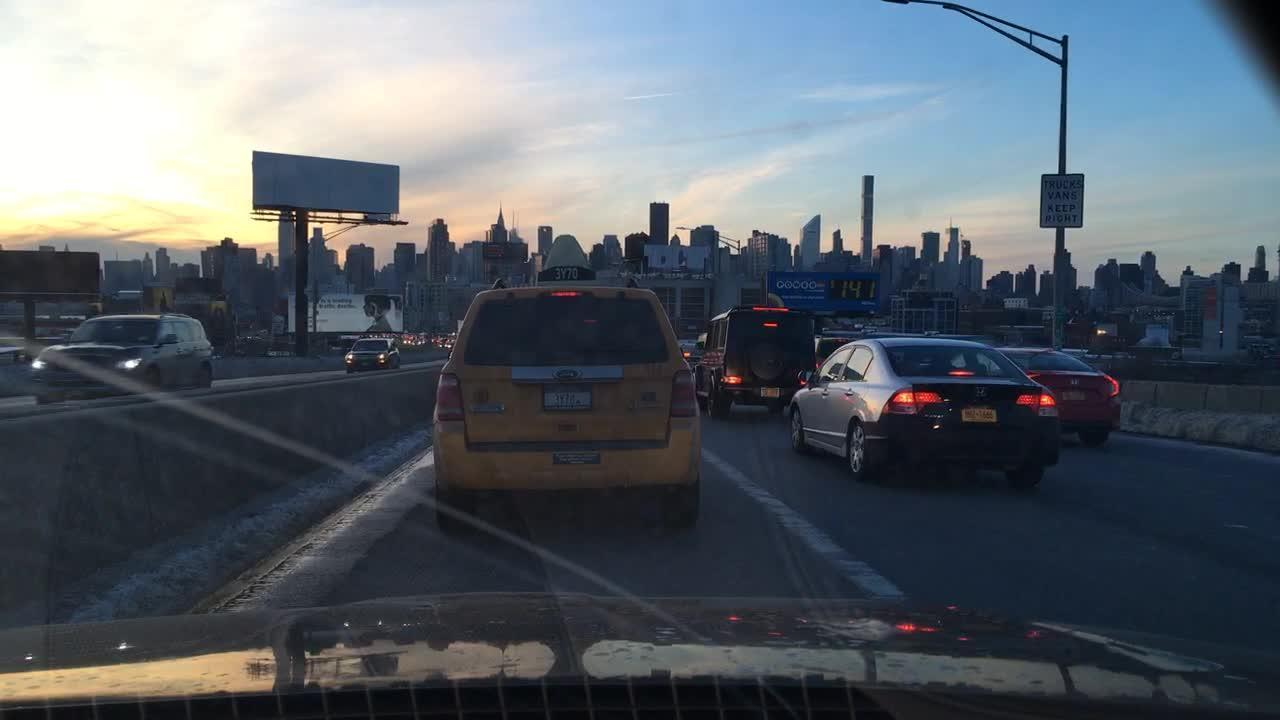Honda: (968, 382, 989, 401), (1065, 375, 1086, 392)
ford: (547, 359, 587, 388)
